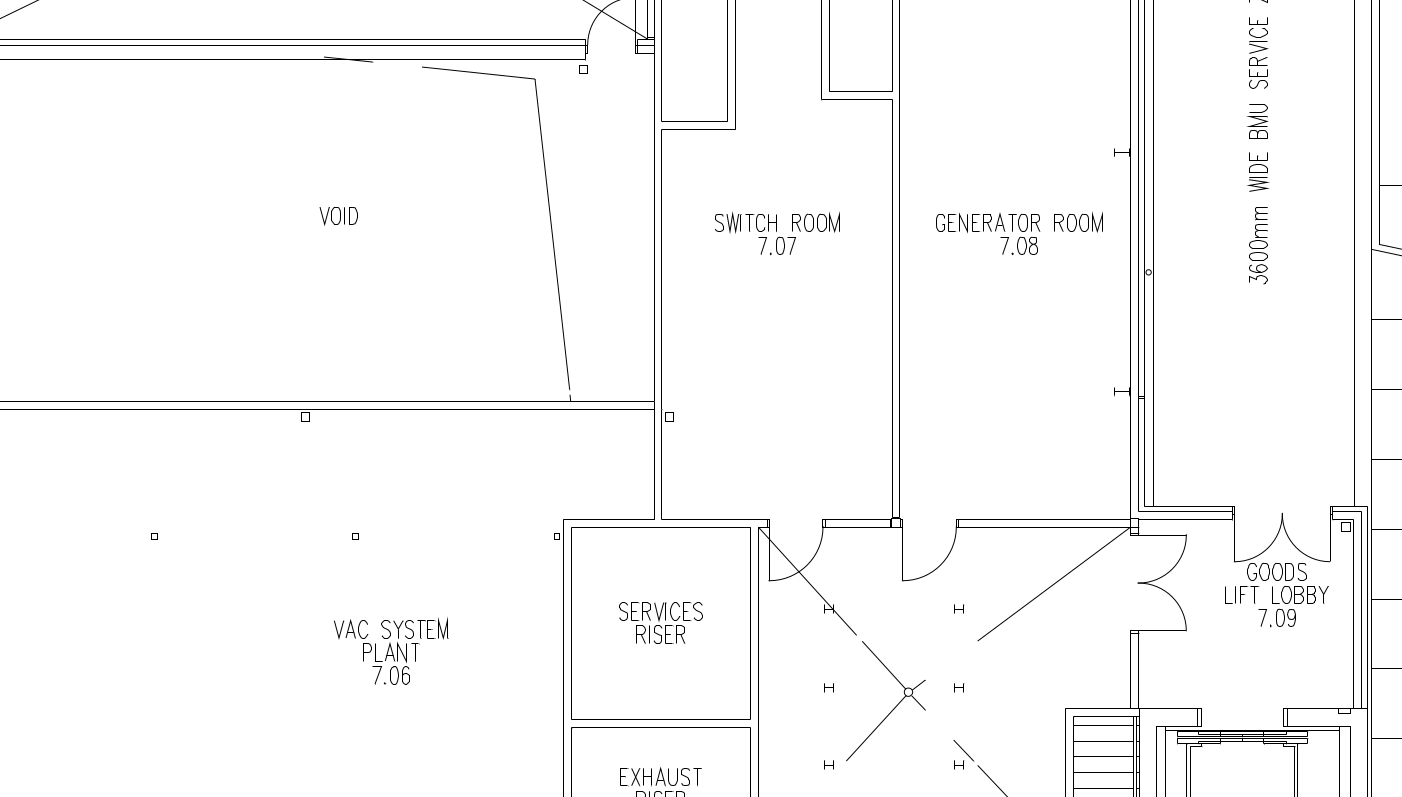door: (763, 526, 822, 592), (899, 527, 958, 593), (1225, 501, 1284, 567), (1282, 496, 1334, 567), (1129, 533, 1195, 584), (1126, 583, 1192, 634)
